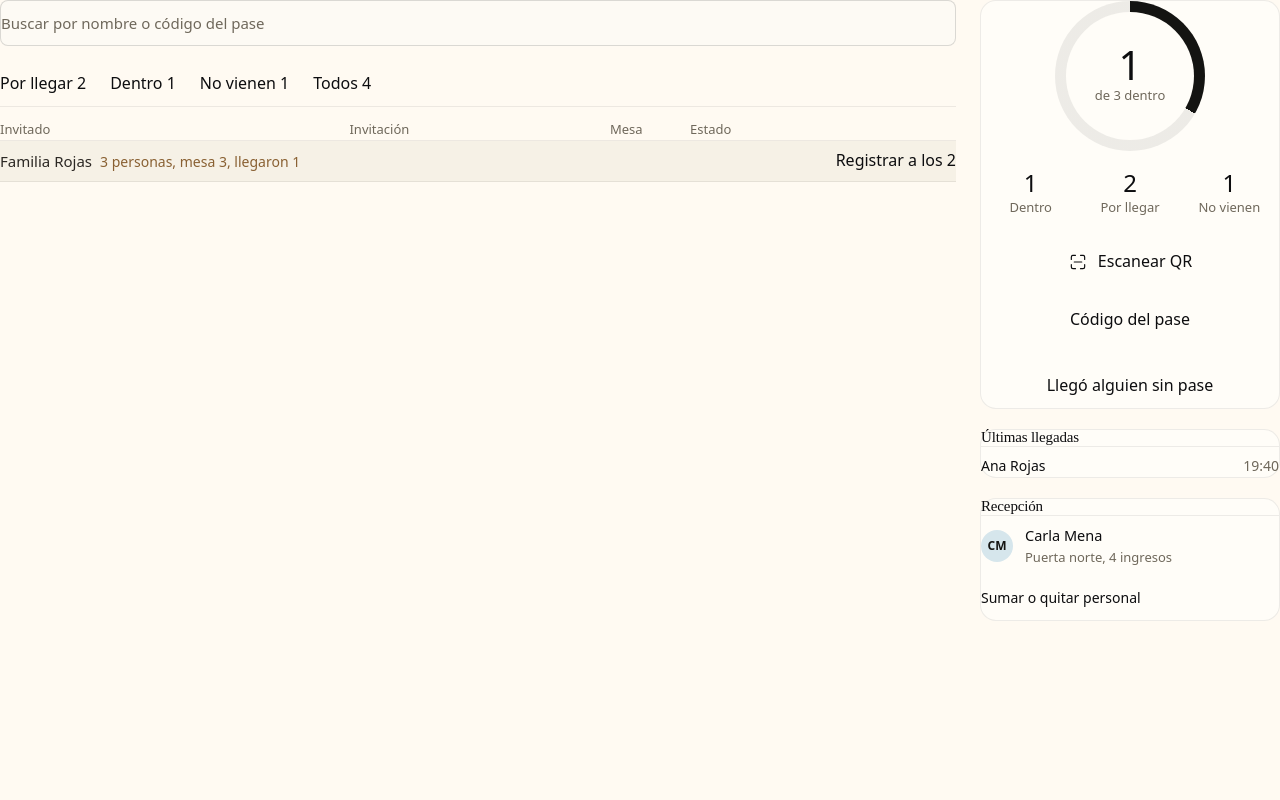
Test case: ControlDeIngreso › un código que no es del evento lo dice
Click the button "Código del pase".
click(1130, 320)  # box [981,296,1279,344]
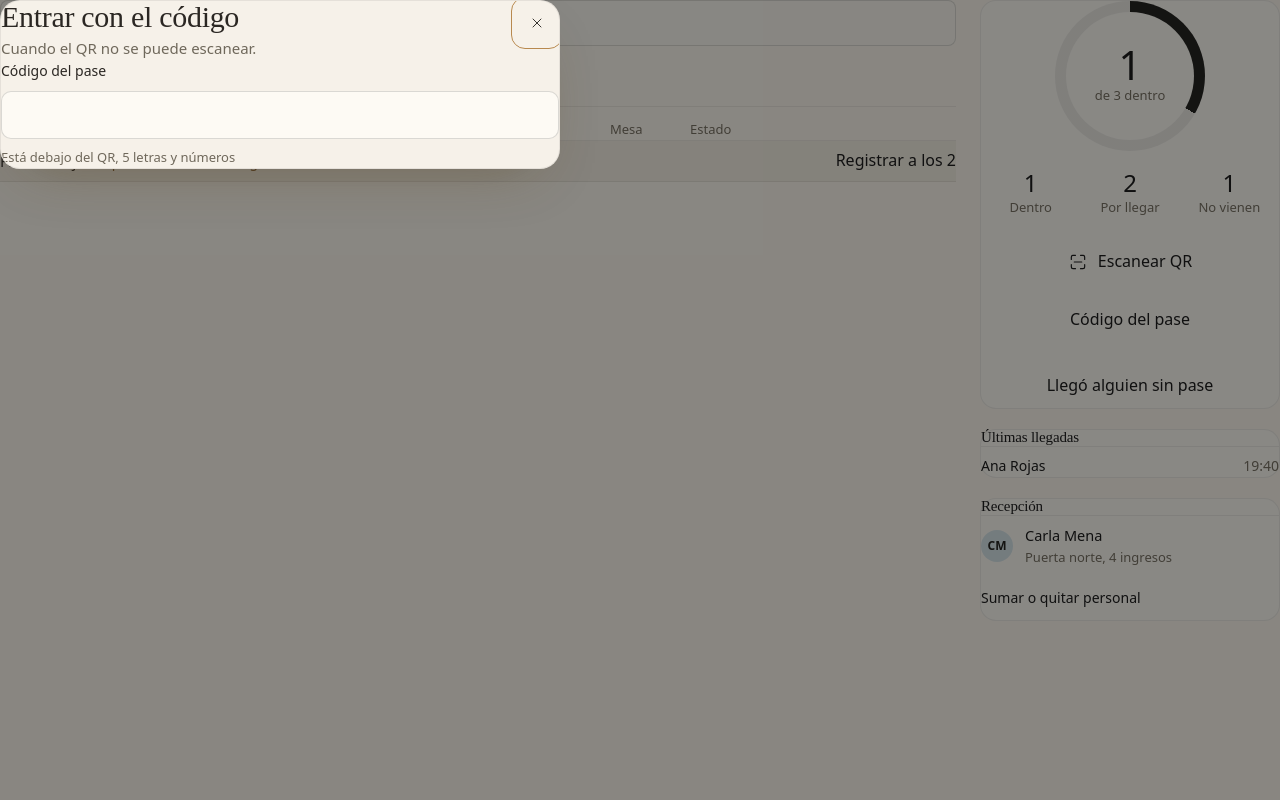
Type "ZZZZZ" into the field labelled "Código del pase".
click(280, 115); type("ZZZZZ")  # box [1,91,559,139]
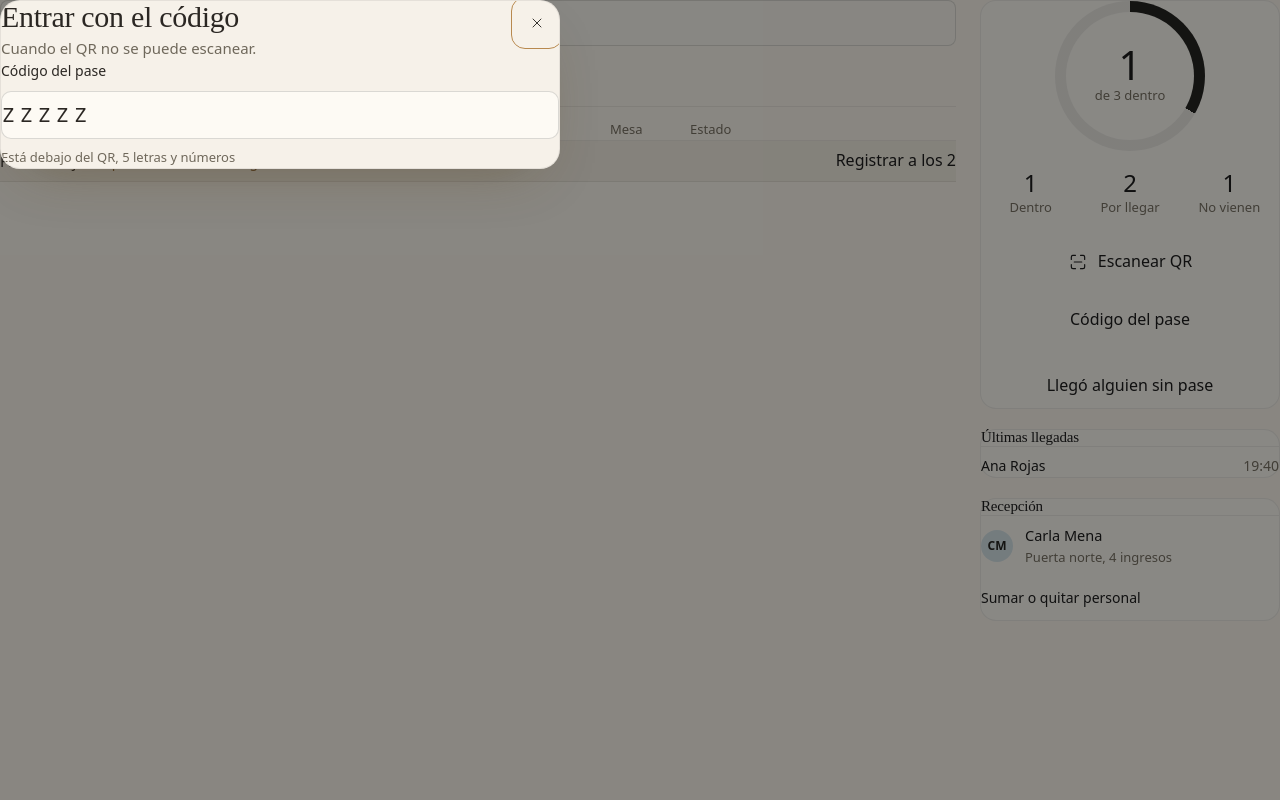
Submit the form from the field labelled "Código del pase", box [1,91,559,139]
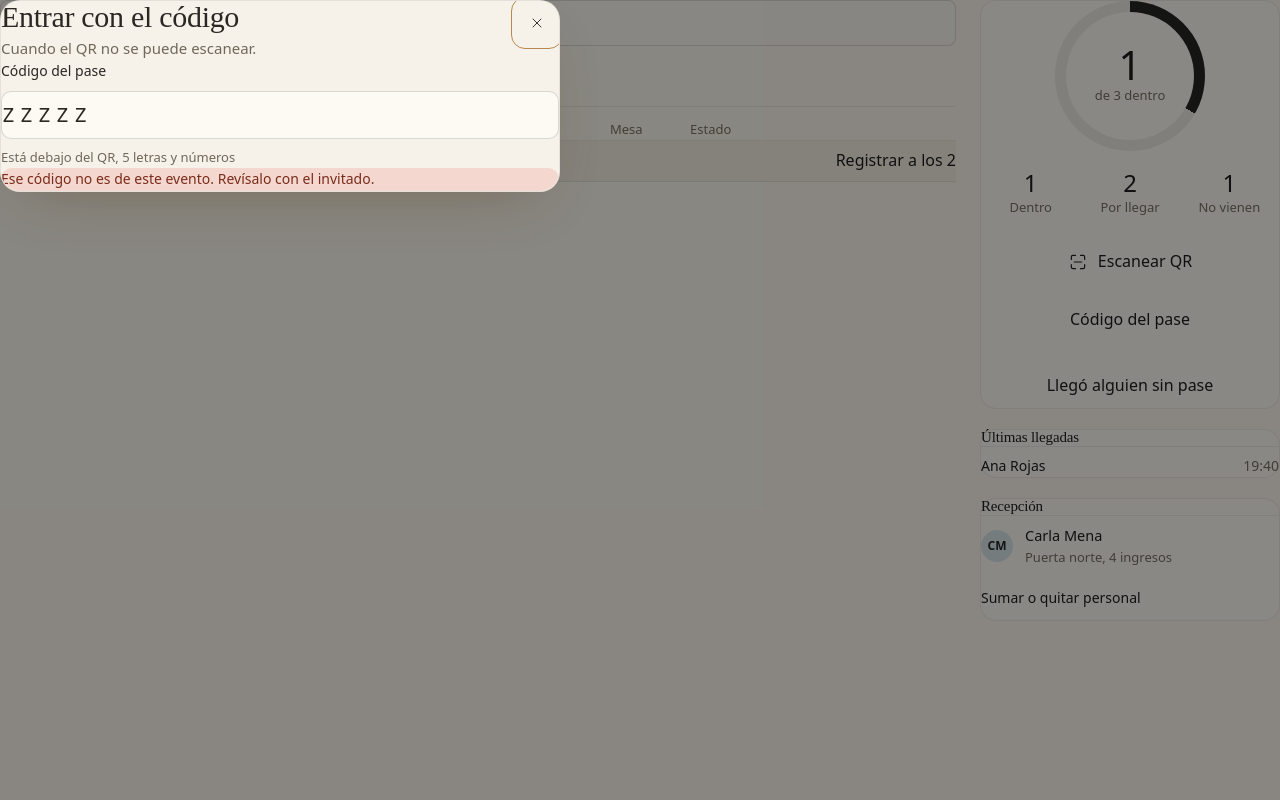
Check: the message shows "no es de este evento", box [1,169,374,188]
